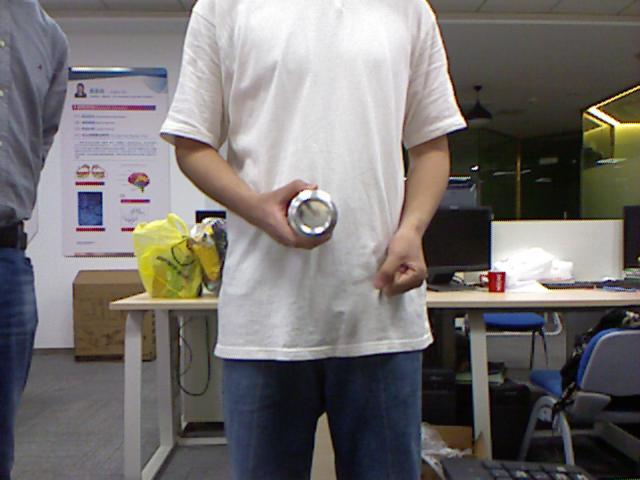metal: (287, 188, 337, 240)
